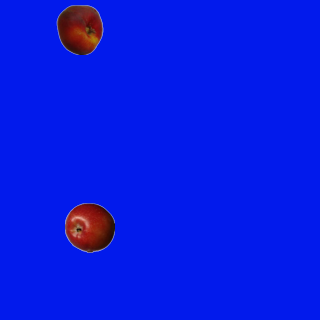Apple Braeburn: (64, 202, 114, 252)
Nectarine Flat: (54, 4, 104, 54)
